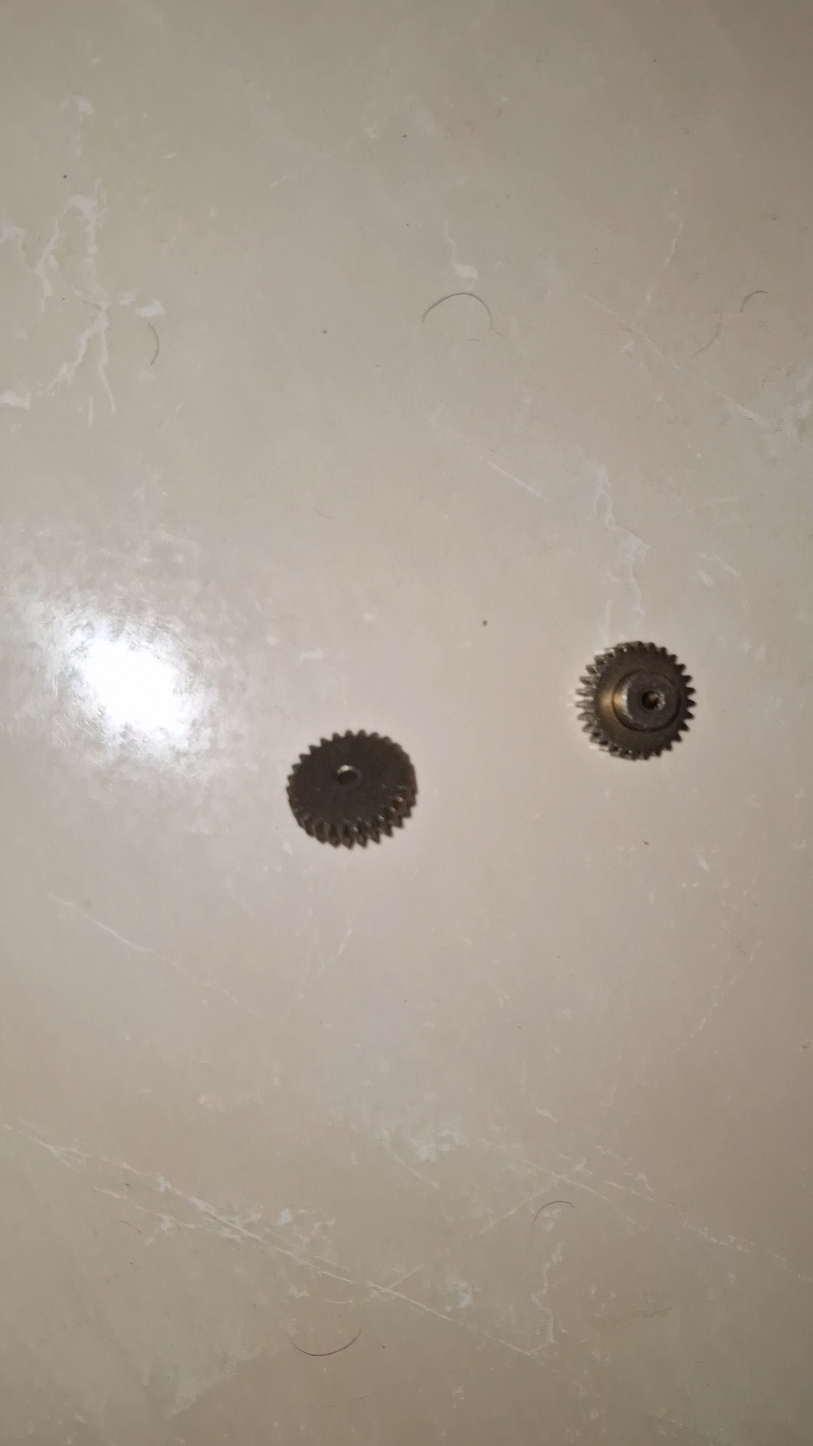spur gear: (287, 731, 417, 847), (578, 642, 694, 759)
